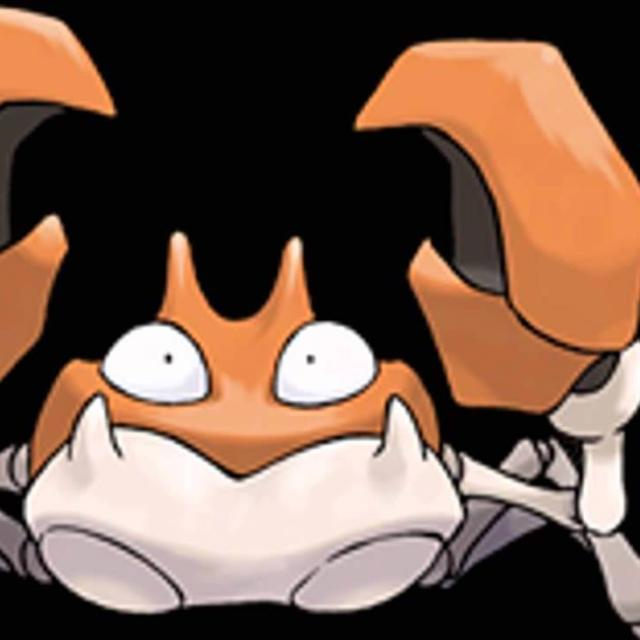Krabby: (0, 236, 629, 614)
